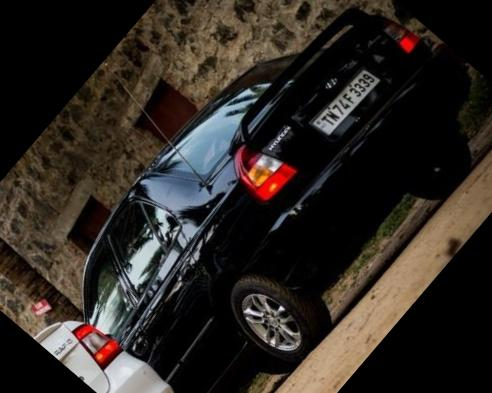plate: (299, 50, 396, 153)
